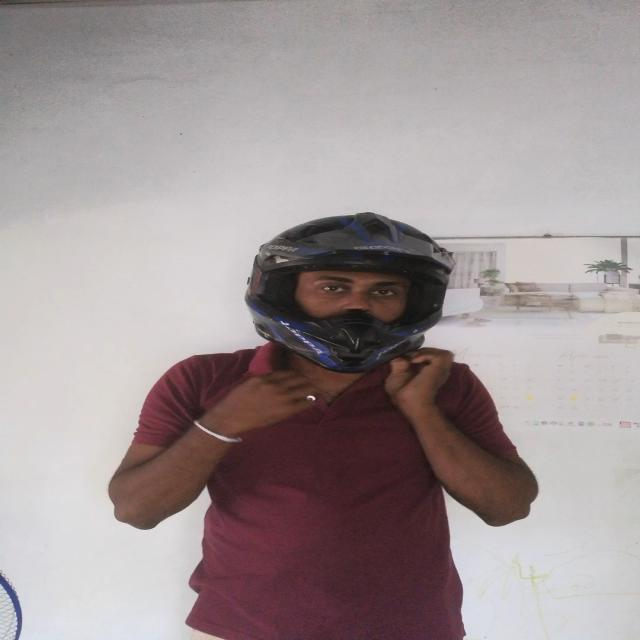Helmet_Wearer: (219, 197, 495, 405)
Person: (94, 211, 536, 640)
